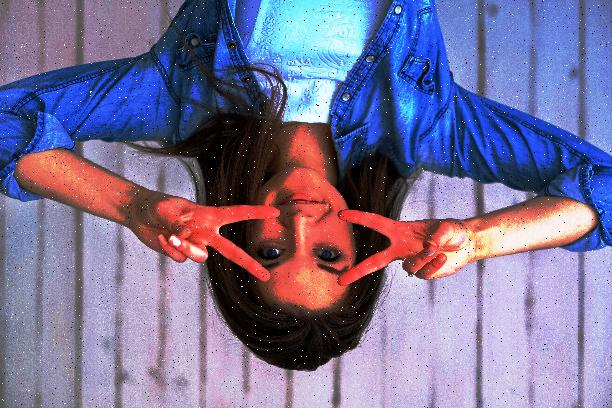Scissors: (132, 190, 280, 284), (335, 204, 467, 288)
